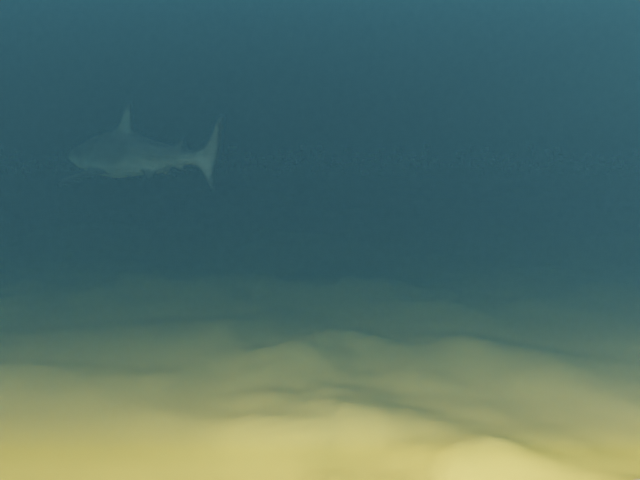Carribean Shark.001: (57, 103, 222, 189)
